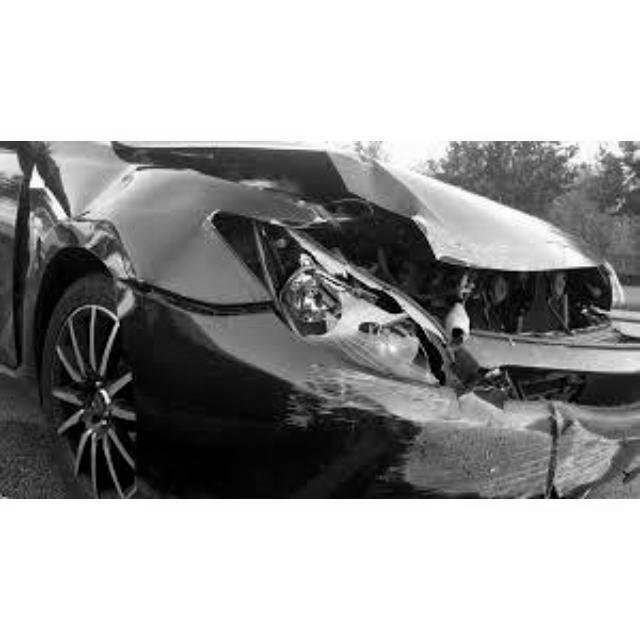Headlight-damage: (195, 170, 472, 387)
front-bumper-dent: (172, 325, 617, 497)
